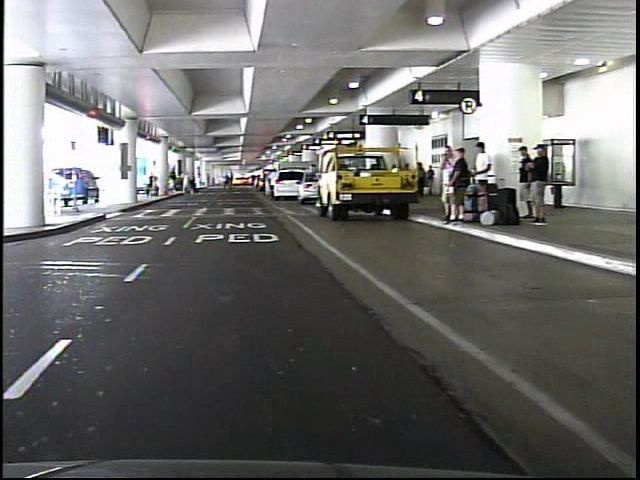person: (524, 144, 544, 228), (430, 144, 450, 219), (174, 166, 189, 200), (261, 165, 276, 189)
